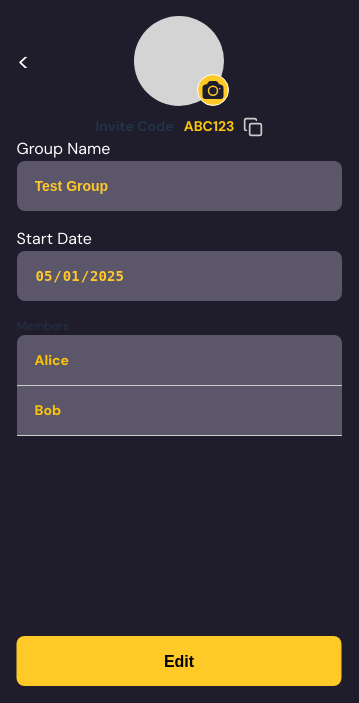
Test: GroupDetailPage › adds a new member in editing mode
Click the button "Edit" at [179, 661], box x1=16 y1=636 x2=342 y2=686
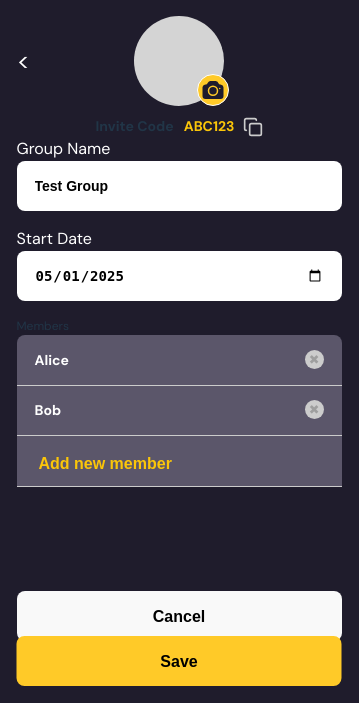
Click the button "Add new member" at [105, 461], box x1=34 y1=451 x2=176 y2=471
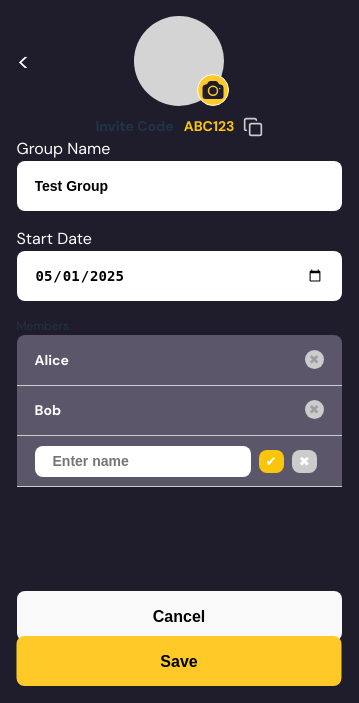
Type "Charlie" into the field with placeholder "Enter name" at [142, 461], box x1=34 y1=446 x2=250 y2=477
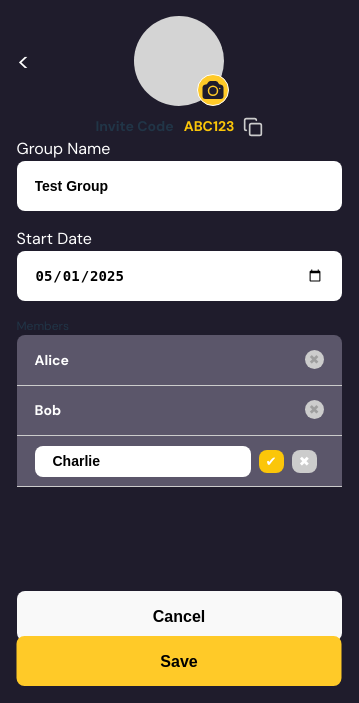
Click the button "✔" at [271, 461], box x1=258 y1=450 x2=284 y2=473
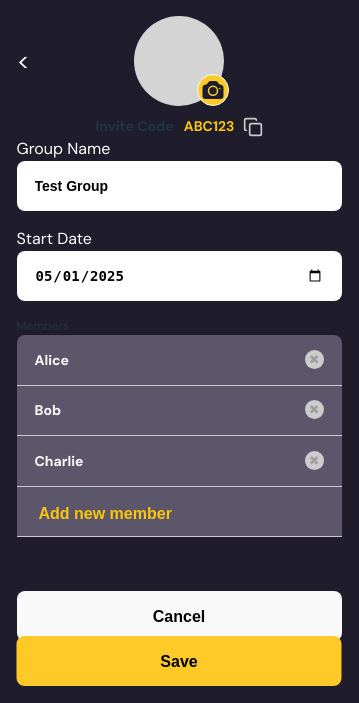
Now the list item "Charlie" is shown, box x1=34 y1=452 x2=83 y2=470
